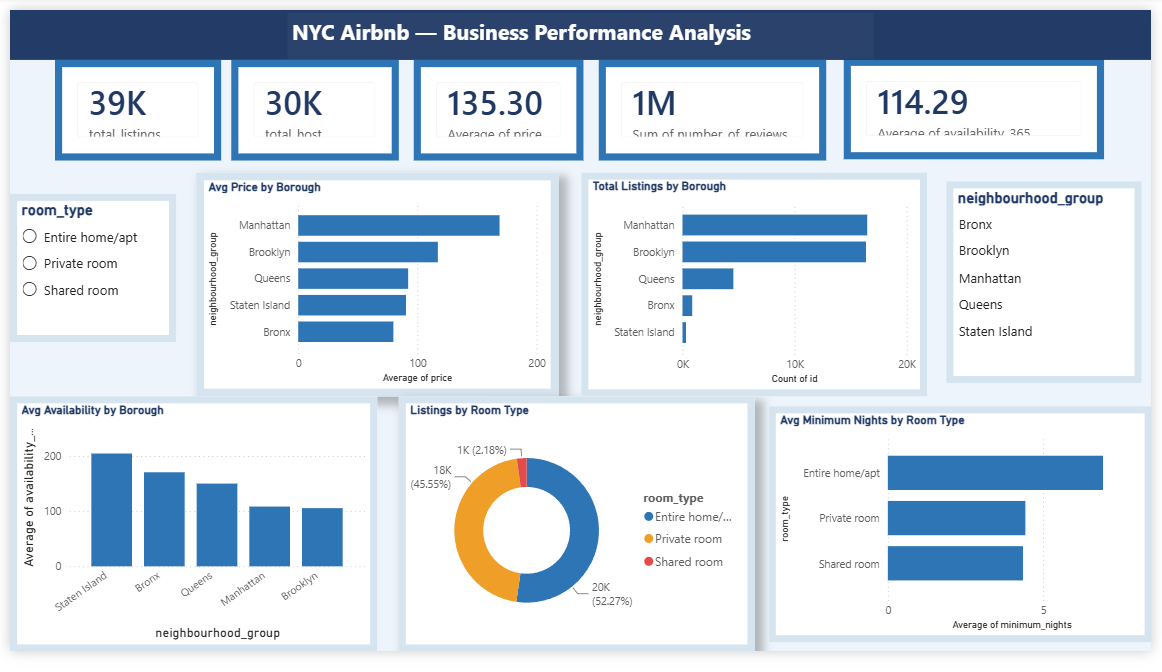

The page's visual inventory and layout, read from the dashboard file:
{"tool":"powerbi","page":{"name":"Page 1","canvas":[1280,720],"ordinal":0},"visuals":[{"type":"cardVisual","fields":{"Data":["fact_table.total_listings"]},"box":[50.8,56.3,186.6,112.5],"z":0},{"type":"cardVisual","fields":{"Data":["fact_table.total_host"]},"box":[248.4,56.3,188,112.5],"z":1000},{"type":"cardVisual","fields":{"Data":["Avg(fact_table.price)"]},"box":[452.8,56.3,190.7,112.5],"z":2000},{"type":"cardVisual","fields":{"Data":["Sum(fact_table.number_of_reviews)"]},"box":[660,56.3,255.2,112.5],"z":3000},{"type":"cardVisual","fields":{"Data":["Avg(fact_table.availability_365)"]},"box":[935.9,54.9,292.3,112.5],"z":4000},{"type":"clusteredBarChart","title":"Avg Price by Borough","fields":{"Category":["fact_table.neighbourhood_group"],"Y":["Avg(fact_table.price)"]},"box":[208.6,182.5,406.2,251.1],"z":5000},{"type":"donutChart","title":"Listings by Room Type","fields":{"Category":["fact_table.room_type"],"Y":["fact_table.total_listings"]},"box":[436.4,433.6,399.3,286.8],"z":6000},{"type":"columnChart","title":"Avg Availability by Borough","fields":{"Category":["fact_table.neighbourhood_group"],"Y":["Avg(fact_table.availability_365)"]},"box":[0,433.6,411.7,286.8],"z":7000},{"type":"clusteredBarChart","title":"Avg Minimum Nights by Room Type","fields":{"Y":["Avg(fact_table.minimum_nights)"],"Category":["fact_table.room_type"]},"box":[850.8,444.6,429.5,264.8],"z":8000},{"type":"clusteredBarChart","title":"Total Listings by Borough","fields":{"Category":["fact_table.neighbourhood_group"],"Y":["CountNonNull(fact_table.id)"]},"box":[640.8,182.5,388.3,251.1],"z":9000},{"type":"listSlicer","fields":{"Values":["fact_table.room_type"]},"box":[0,205.8,186.6,166],"z":10000},{"type":"listSlicer","fields":{"Values":["fact_table.neighbourhood_group"]},"box":[1049.7,192.1,219.6,226.4],"z":11000},{"type":"shape","box":[0,0,1280.3,56.3],"z":12000},{"type":"textbox","box":[311.4,2.7,657.3,52.1],"z":13000}]}

Visuals, with their boxes in screenshot pixels (x1, y1, x2, y2), scaled from the page's 1280x720 canvas onto the 1162x672 screenshot:
cardVisual - fact_table.total_listings: l=46, t=53, r=216, b=158
cardVisual - fact_table.total_host: l=226, t=53, r=396, b=158
cardVisual - Avg(fact_table.price): l=411, t=53, r=584, b=158
cardVisual - Sum(fact_table.number_of_reviews): l=599, t=53, r=831, b=158
cardVisual - Avg(fact_table.availability_365): l=850, t=51, r=1115, b=156
"Avg Price by Borough" clusteredBarChart: l=189, t=170, r=558, b=405
"Listings by Room Type" donutChart: l=396, t=405, r=759, b=671
"Avg Availability by Borough" columnChart: l=0, t=405, r=374, b=671
"Avg Minimum Nights by Room Type" clusteredBarChart: l=772, t=415, r=1161, b=662
"Total Listings by Borough" clusteredBarChart: l=582, t=170, r=934, b=405
listSlicer - fact_table.room_type: l=0, t=192, r=169, b=347
listSlicer - fact_table.neighbourhood_group: l=953, t=179, r=1152, b=391
shape: l=0, t=0, r=1161, b=53
textbox: l=283, t=3, r=879, b=51
